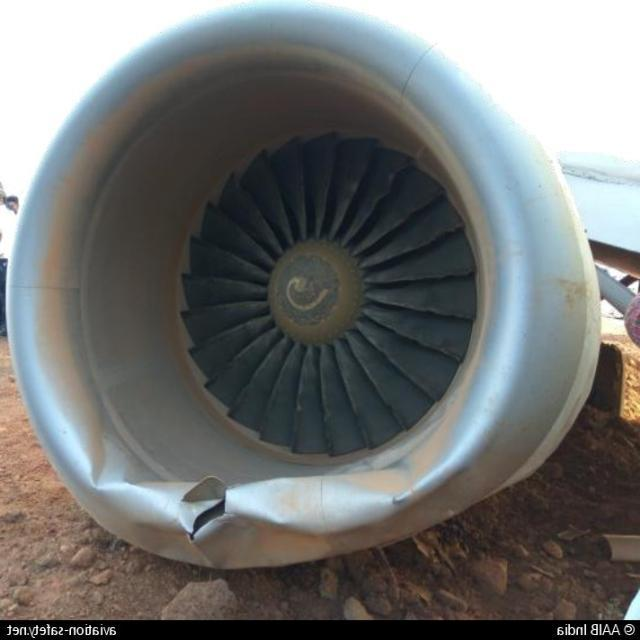crack: (188, 498, 227, 546)
dent: (231, 474, 407, 537), (89, 447, 128, 492)
